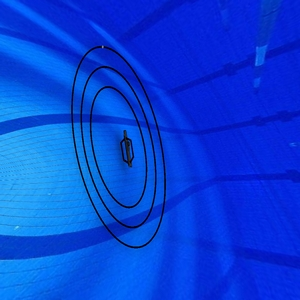circle: (68, 41, 172, 252)
submarine: (117, 127, 138, 169)
